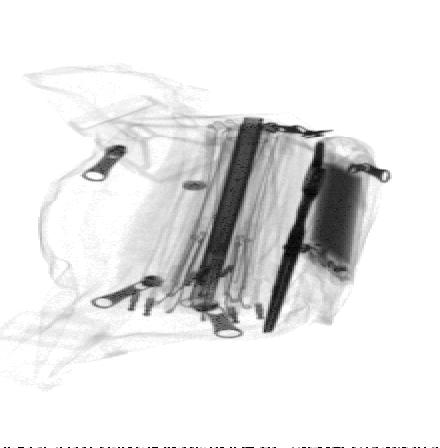Powerbank: (300, 143, 368, 288)
Scissors: (260, 138, 341, 335)
